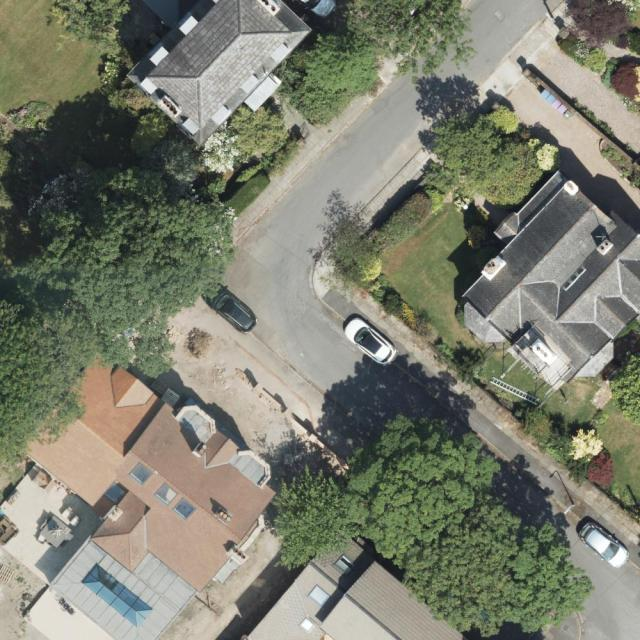roof: (16, 350, 278, 640), (463, 169, 640, 393), (122, 0, 311, 150), (240, 528, 475, 640)
skylight: (80, 562, 157, 630), (127, 460, 154, 486), (104, 479, 131, 505), (154, 481, 180, 505), (174, 498, 197, 521), (333, 552, 354, 576), (309, 584, 331, 606), (300, 616, 316, 632)
